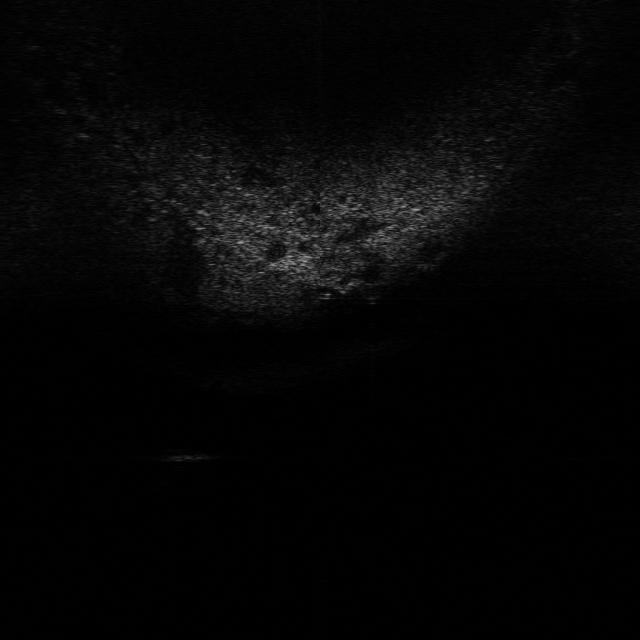ball: (357, 272, 389, 302)
cube: (154, 441, 214, 465)
